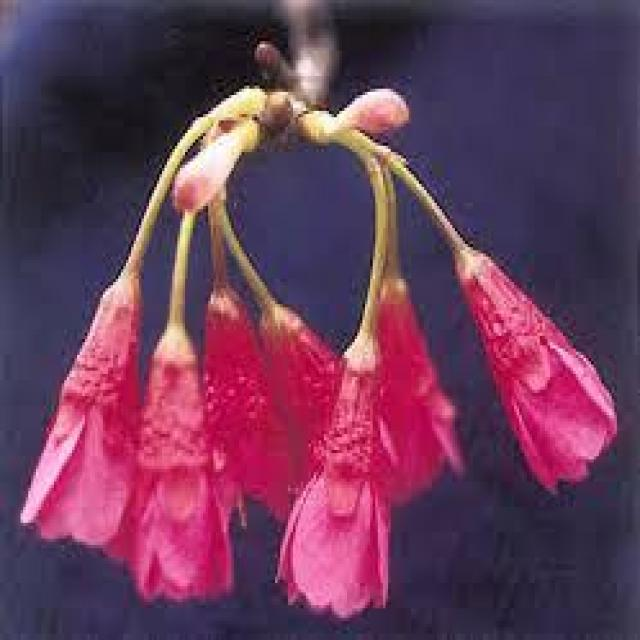organic waste: (447, 212, 622, 498), (113, 261, 252, 613), (270, 292, 414, 624), (23, 224, 154, 578), (338, 166, 466, 493), (181, 271, 310, 521), (248, 277, 379, 493)
